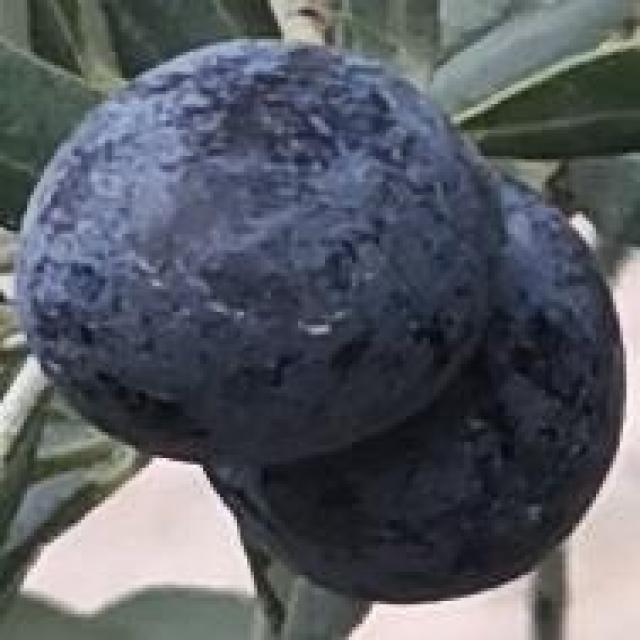Healthy: (20, 39, 501, 463)
